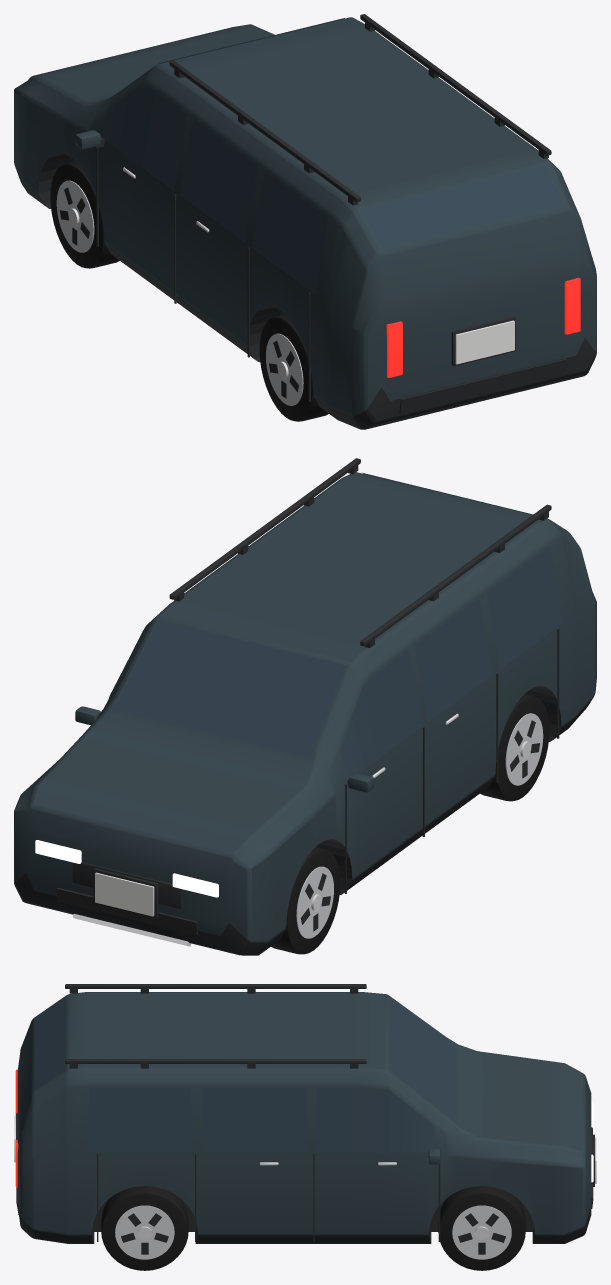
File: suv.glb
3 renders of one model, top to bottom at view 1: azimuth 30°, elevation 25°; view 2: azimuth 150°, elevation 25°; view 3: azimuth 270°, elevation 25°, orthographic. The views are drawn at different scales.
Visible parts, largest first — view 1: CAR_suv; view 2: CAR_suv; view 3: CAR_suv.
Part boxes in pixels (x1,y1,x2,y2): CAR_suv: (14, 14, 596, 429); CAR_suv: (14, 458, 596, 955); CAR_suv: (14, 984, 596, 1270).
Bounding box in the file's own units: 2.31 × 1.89 × 4.93.
